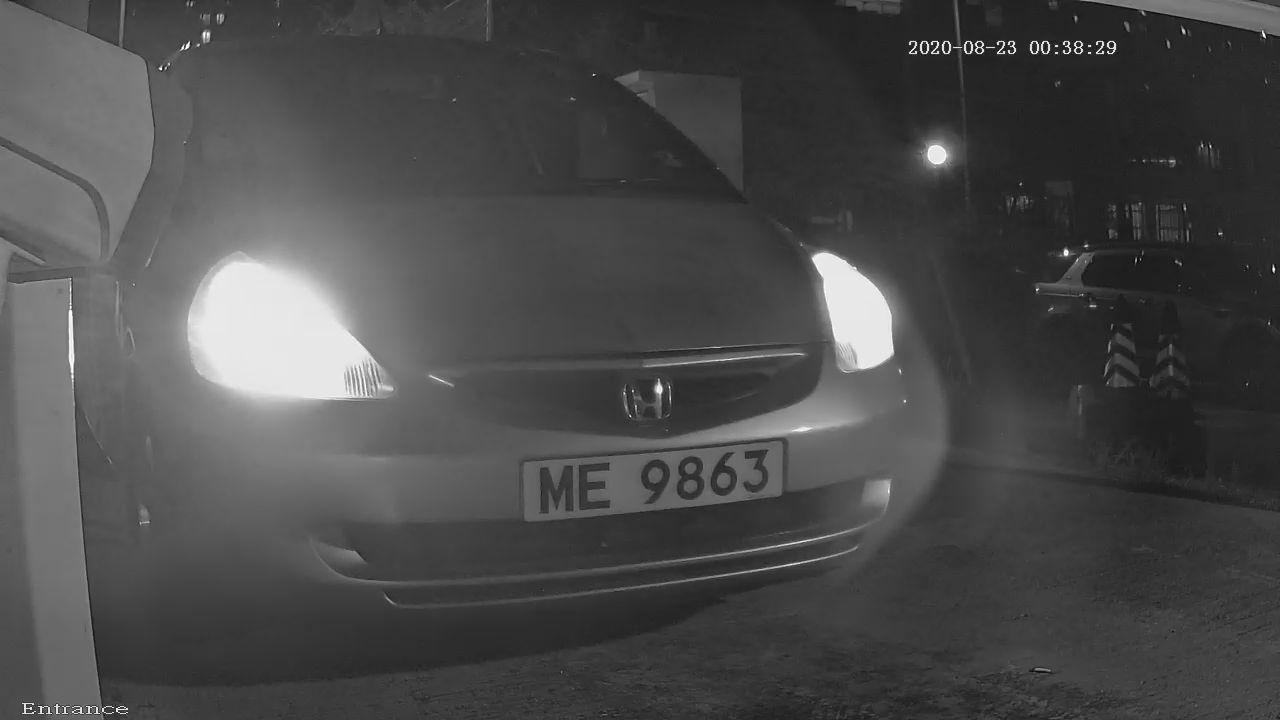Car: (12, 13, 1012, 692)
License Plate: (474, 396, 824, 561)
